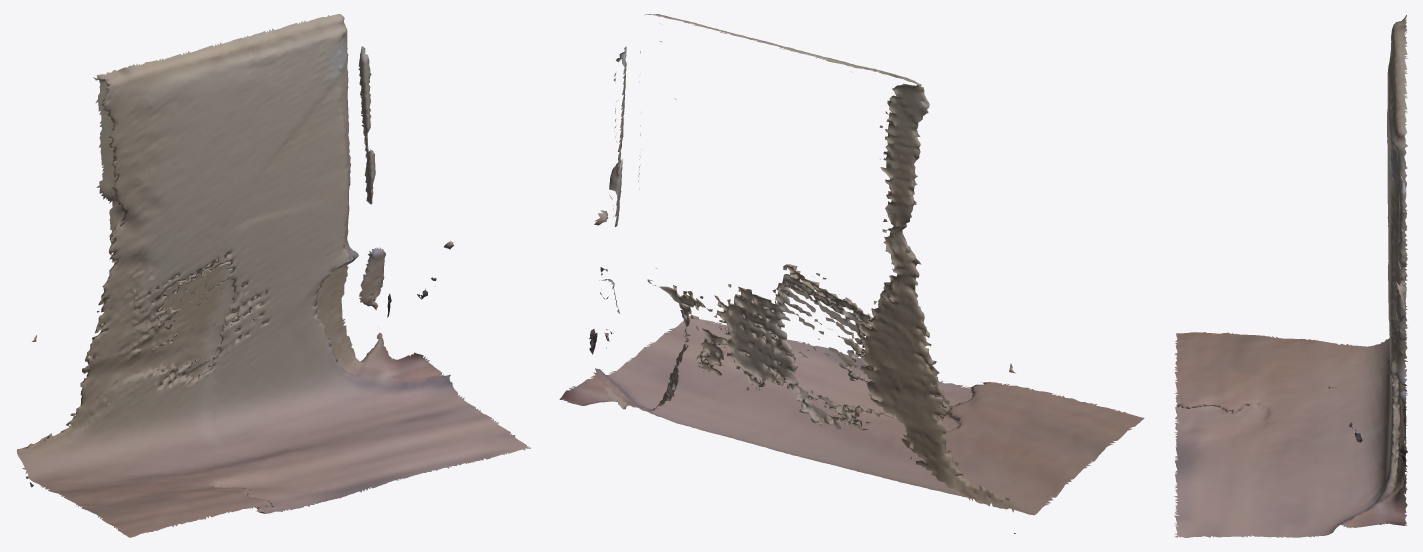
Rendered from apartment-full-29-aed3ed757fa1.glb.
3 views of the same model, side by side, from view 1: azimuth 30°, elevation 25°; view 2: azimuth 150°, elevation 25°; view 3: azimuth 270°, elevation 25° (orthographic). The views are drawn at different scales.
Bounding box in the file's own units: 1.12 × 1.04 × 0.563.
